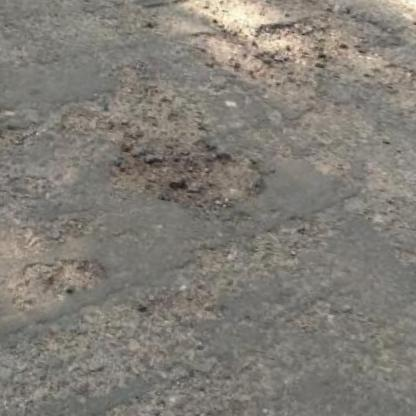pothole: (99, 121, 274, 232), (195, 5, 336, 106), (19, 245, 112, 308)
